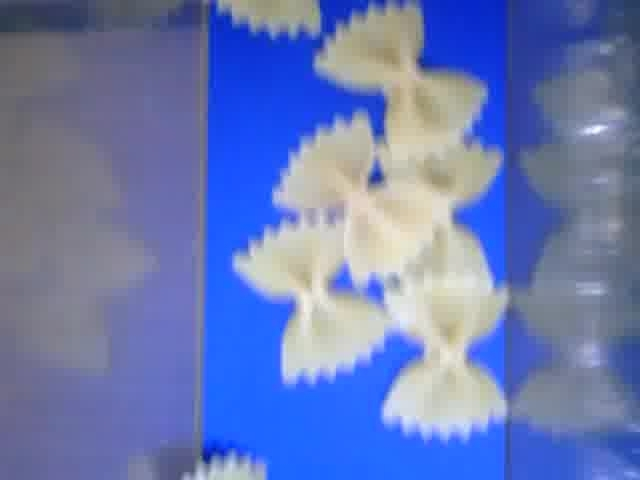farfalle: (271, 110, 448, 288), (231, 215, 391, 384), (315, 5, 489, 159), (382, 274, 507, 442), (218, 1, 322, 33), (181, 451, 267, 480)
